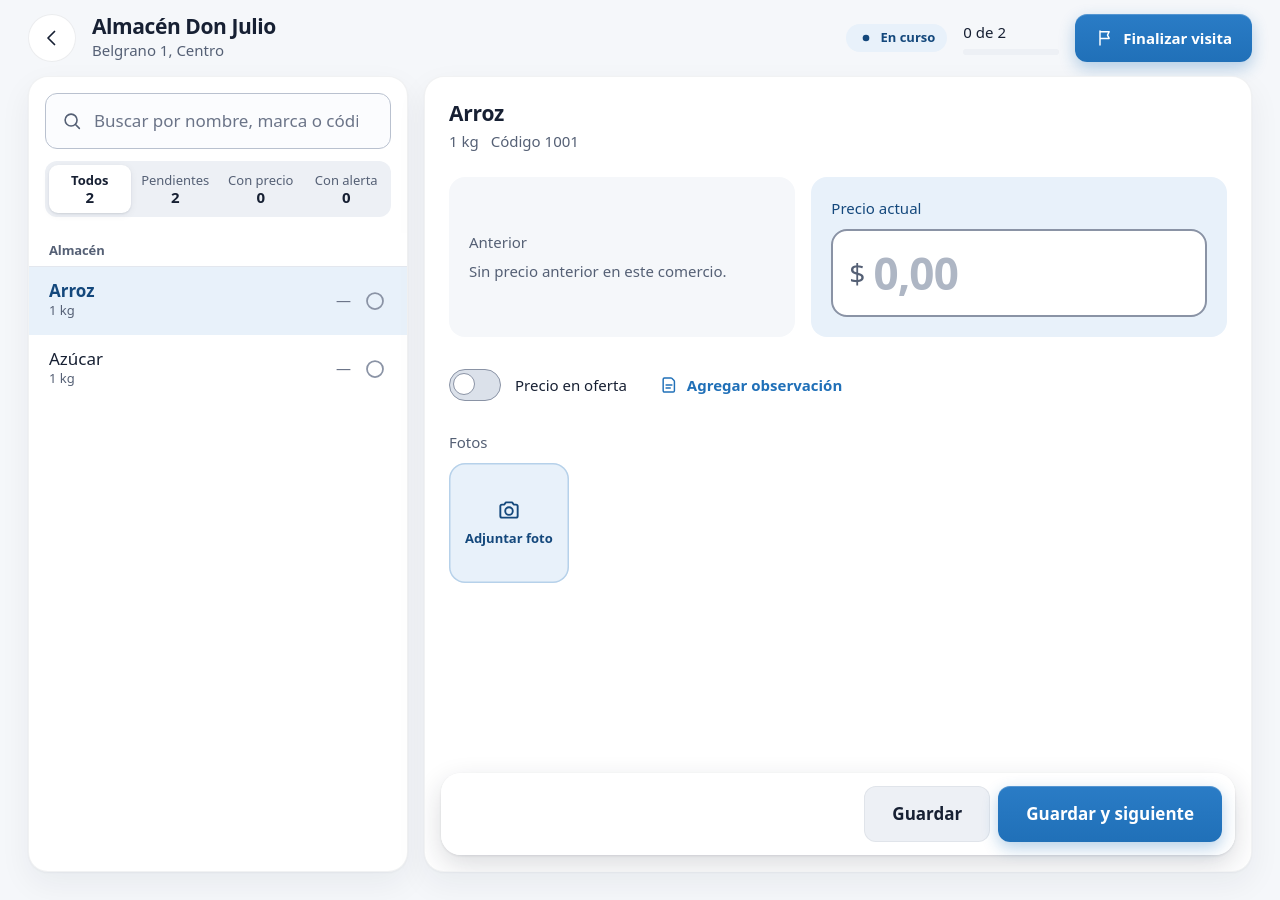
it: VisitaPage offline outbox › online: a normal save still goes straight to the server and surfaces errors immediately
Expected: the heading "Almacén Don Julio" is shown, [92,12,276,40]
Step 1. Type "900" into the field labelled "Precio actual" → (1031, 273), box [873,247,1189,300]
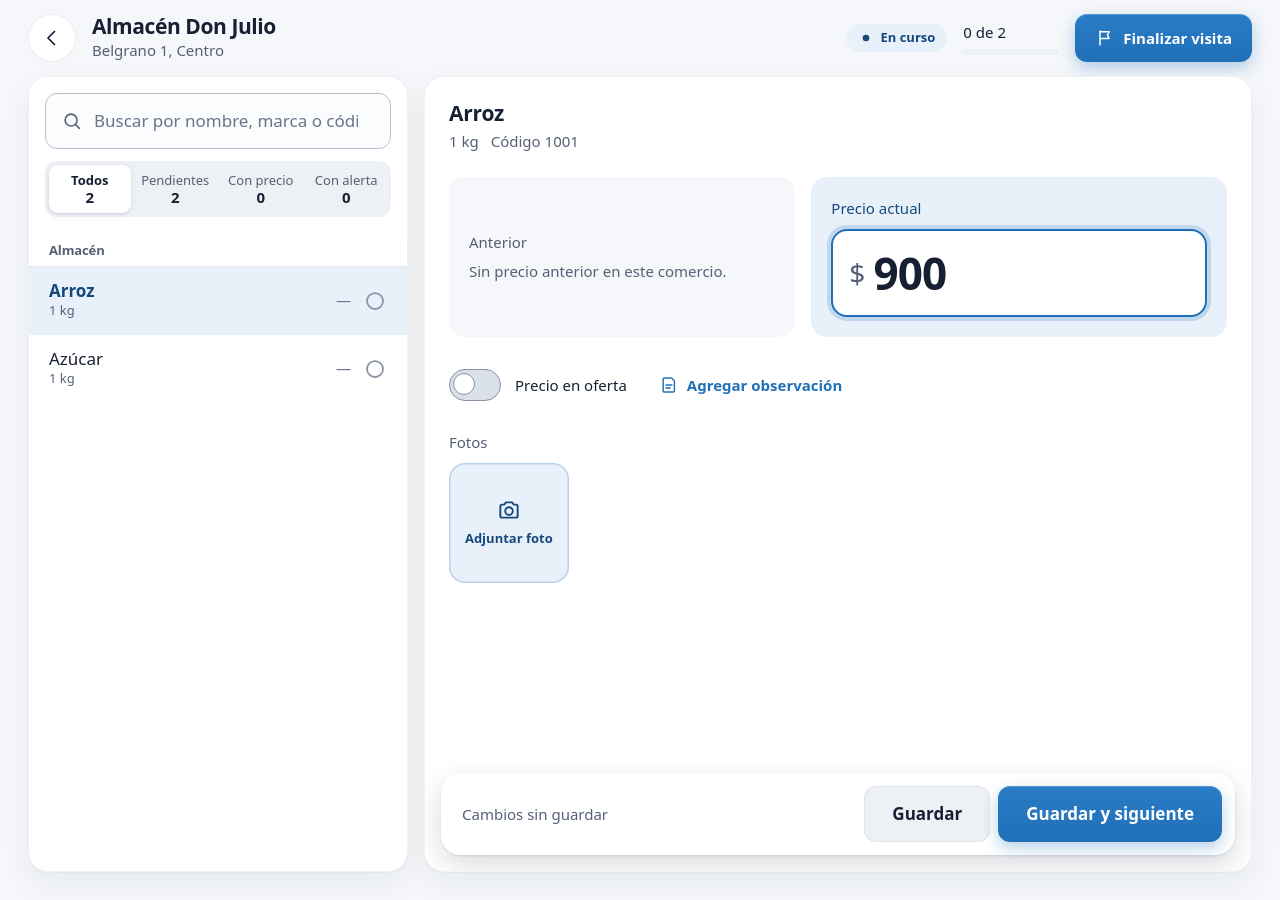
Step 2. Click the button "Guardar" → click(927, 814), box [864,786,990,842]
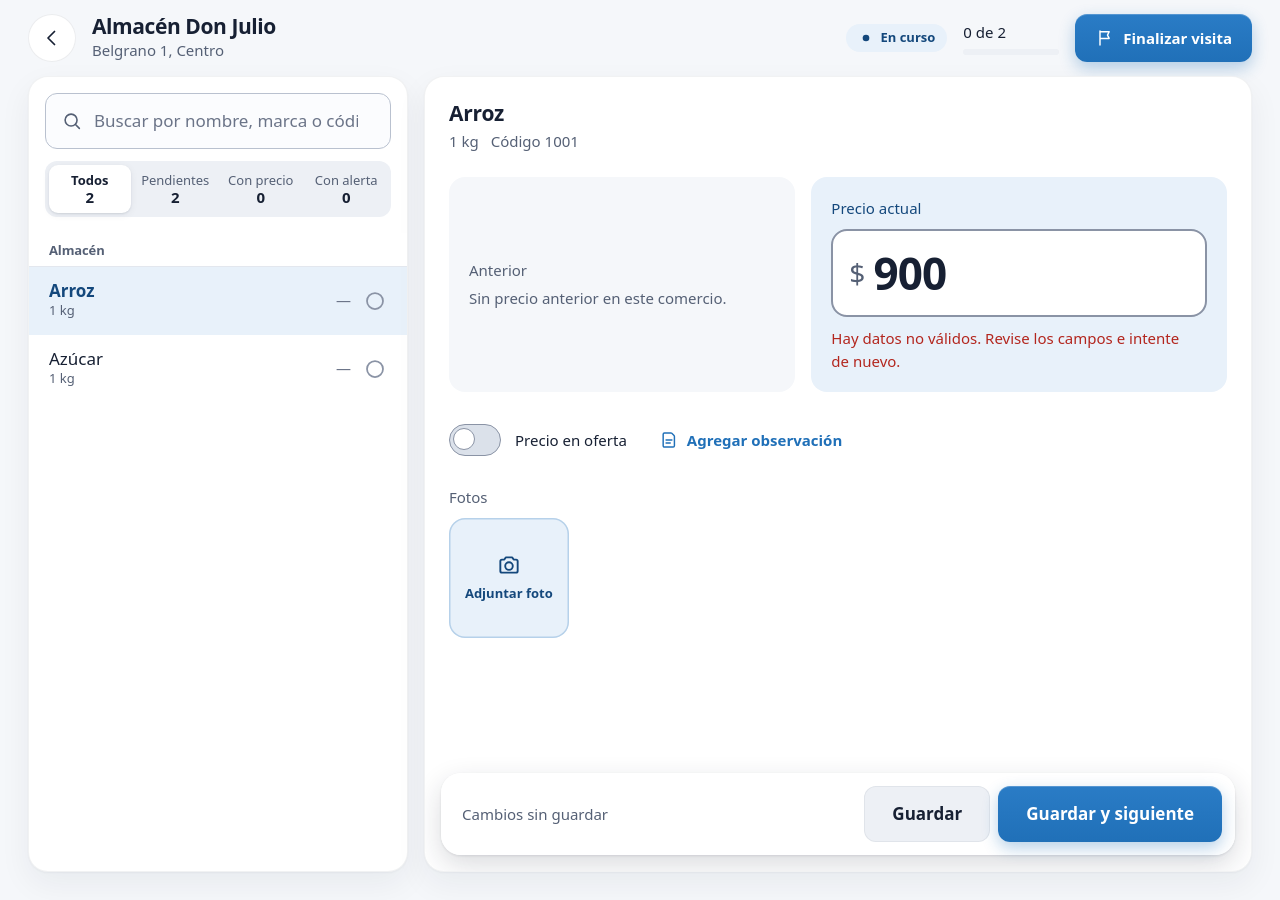
Expected: the message shows "datos no válidos", [831,328,1179,371]
